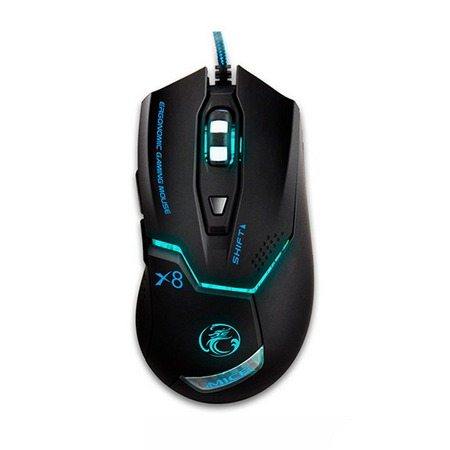mouse: (126, 60, 317, 411)
